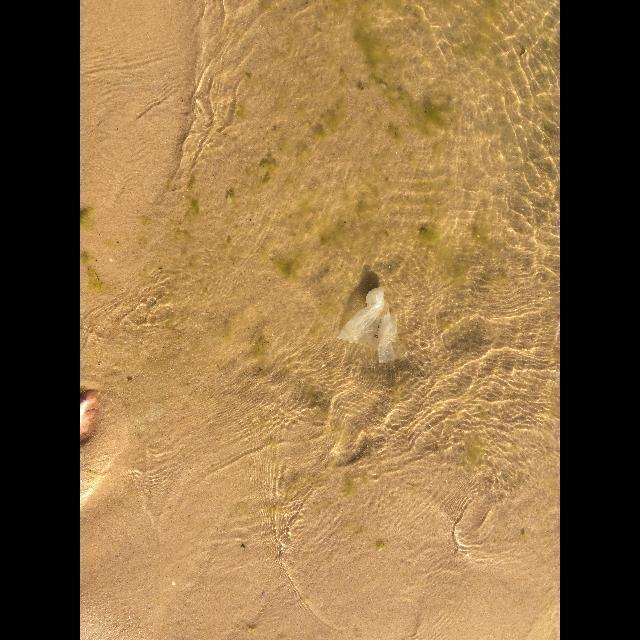Plastic: (338, 287, 402, 363)
